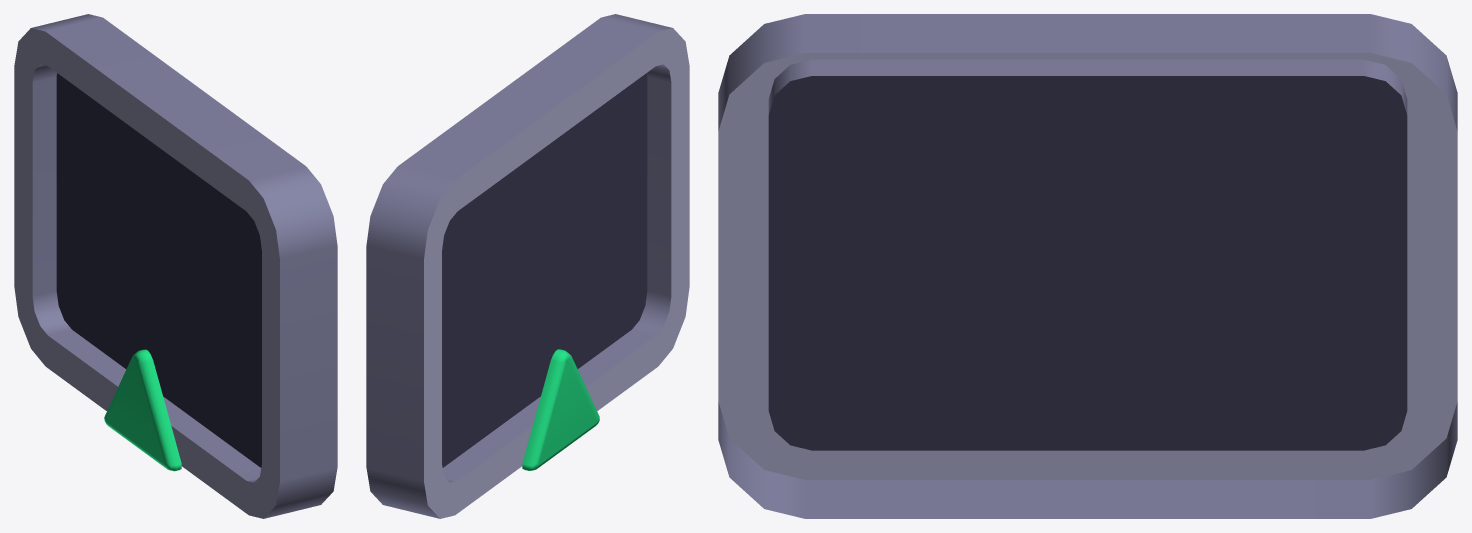
File: Notice_broad1.fbx
3 views of the same model, side by side, from view 1: azimuth 30°, elevation 25°; view 2: azimuth 150°, elevation 25°; view 3: azimuth 270°, elevation 25° (orthographic). The views are drawn at different scales.
Parts seen in each view (by area): view 1: Notice_broad1; view 2: Notice_broad1; view 3: Notice_broad1.
Part boxes in pixels (x1=…): Notice_broad1: x1=14, y1=14, x2=337, y2=518; Notice_broad1: x1=366, y1=14, x2=689, y2=518; Notice_broad1: x1=718, y1=14, x2=1457, y2=518.
Bounding box in the file's own units: 1.36 × 6.44 × 9.08.
1 material, 1 textured.
